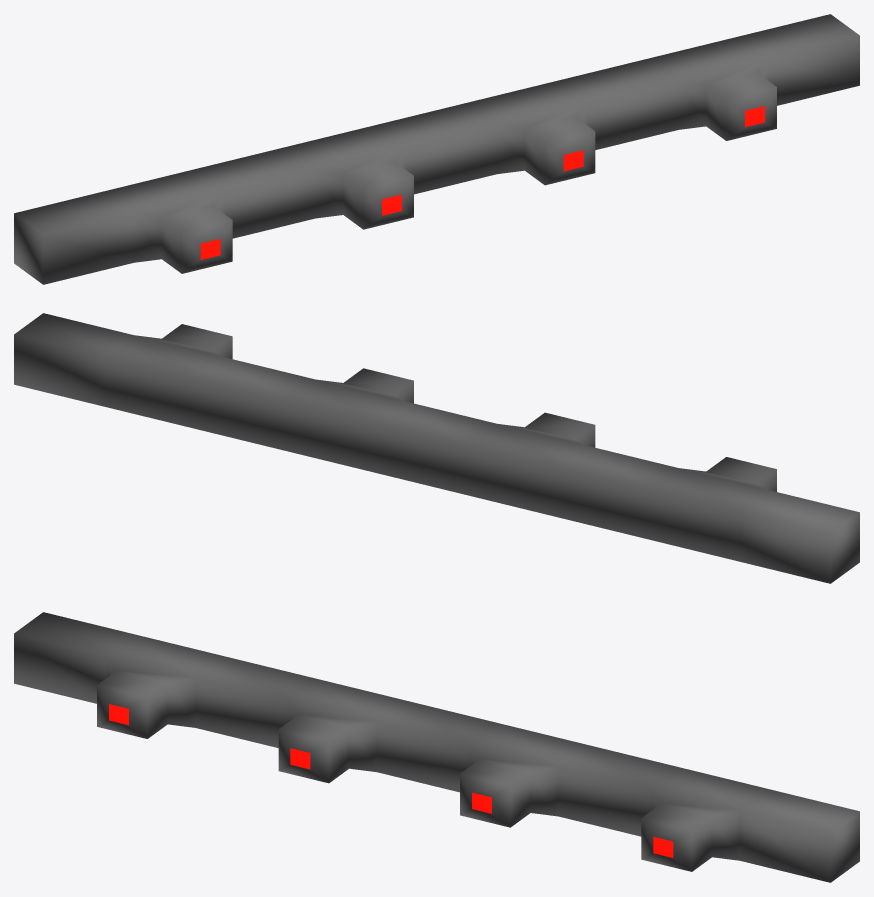
File: LaserEmitter.fbx
3 renders of one model, top to bottom at view 1: azimuth 30°, elevation 25°; view 2: azimuth 150°, elevation 25°; view 3: azimuth 330°, elevation 25°, orthographic.
Parts seen in each view (by area): view 1: LaserEmitter; view 2: LaserEmitter; view 3: LaserEmitter.
Boxes of the visible parts, <box> form: LaserEmitter: <box>14,14,859,284</box>; LaserEmitter: <box>14,313,859,583</box>; LaserEmitter: <box>14,612,859,882</box>.
Size of the model in its own units: 339 by 19.89 by 43.53.
